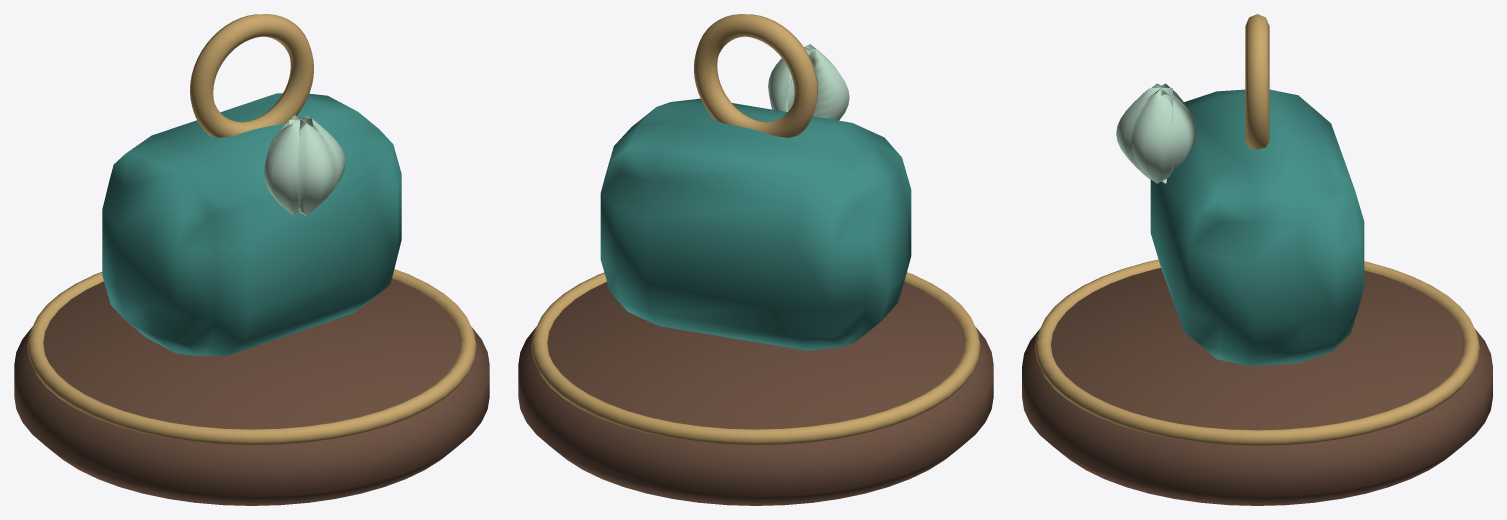
Rendered from anvil.glb.
3 views of the same model, side by side, from view 1: azimuth 30°, elevation 25°; view 2: azimuth 150°, elevation 25°; view 3: azimuth 270°, elevation 25° (orthographic).
Visible parts, largest first — view 1: anvil_Walnut carved edge, anvil_Glazed teal porcelain, anvil_Brushed champagne brass, anvil_Celadon milk glaze; view 2: anvil_Walnut carved edge, anvil_Glazed teal porcelain, anvil_Brushed champagne brass, anvil_Celadon milk glaze; view 3: anvil_Walnut carved edge, anvil_Glazed teal porcelain, anvil_Brushed champagne brass, anvil_Celadon milk glaze.
Boxes of the visible parts, x1,y1,x2,y2 form: anvil_Walnut carved edge: [14, 278, 489, 505]; anvil_Glazed teal porcelain: [102, 93, 401, 355]; anvil_Brushed champagne brass: [27, 14, 476, 445]; anvil_Celadon milk glaze: [264, 115, 345, 215]; anvil_Walnut carved edge: [518, 281, 993, 505]; anvil_Glazed teal porcelain: [600, 98, 911, 350]; anvil_Brushed champagne brass: [531, 14, 980, 445]; anvil_Celadon milk glaze: [768, 44, 849, 120]; anvil_Walnut carved edge: [1022, 268, 1492, 505]; anvil_Glazed teal porcelain: [1150, 89, 1364, 366]; anvil_Brushed champagne brass: [1035, 14, 1479, 445]; anvil_Celadon milk glaze: [1116, 83, 1196, 183].
Size of the model in its own units: 0.98 by 0.905 by 0.98.
